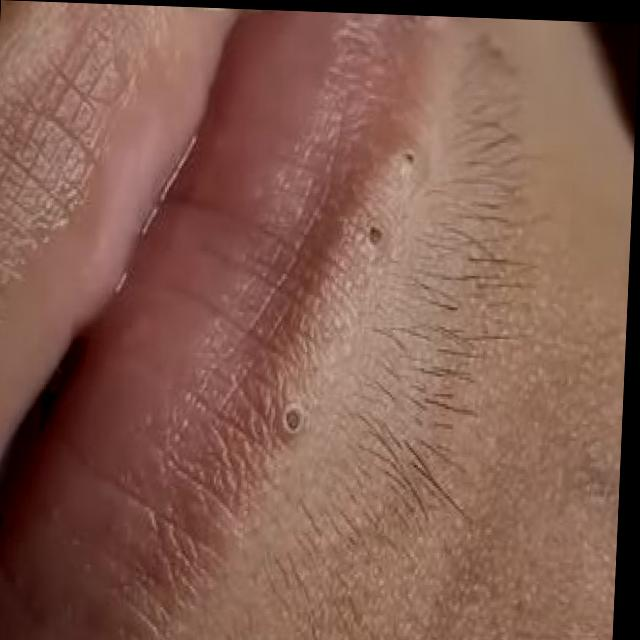dark spot: (270, 394, 306, 441), (360, 212, 387, 252)
